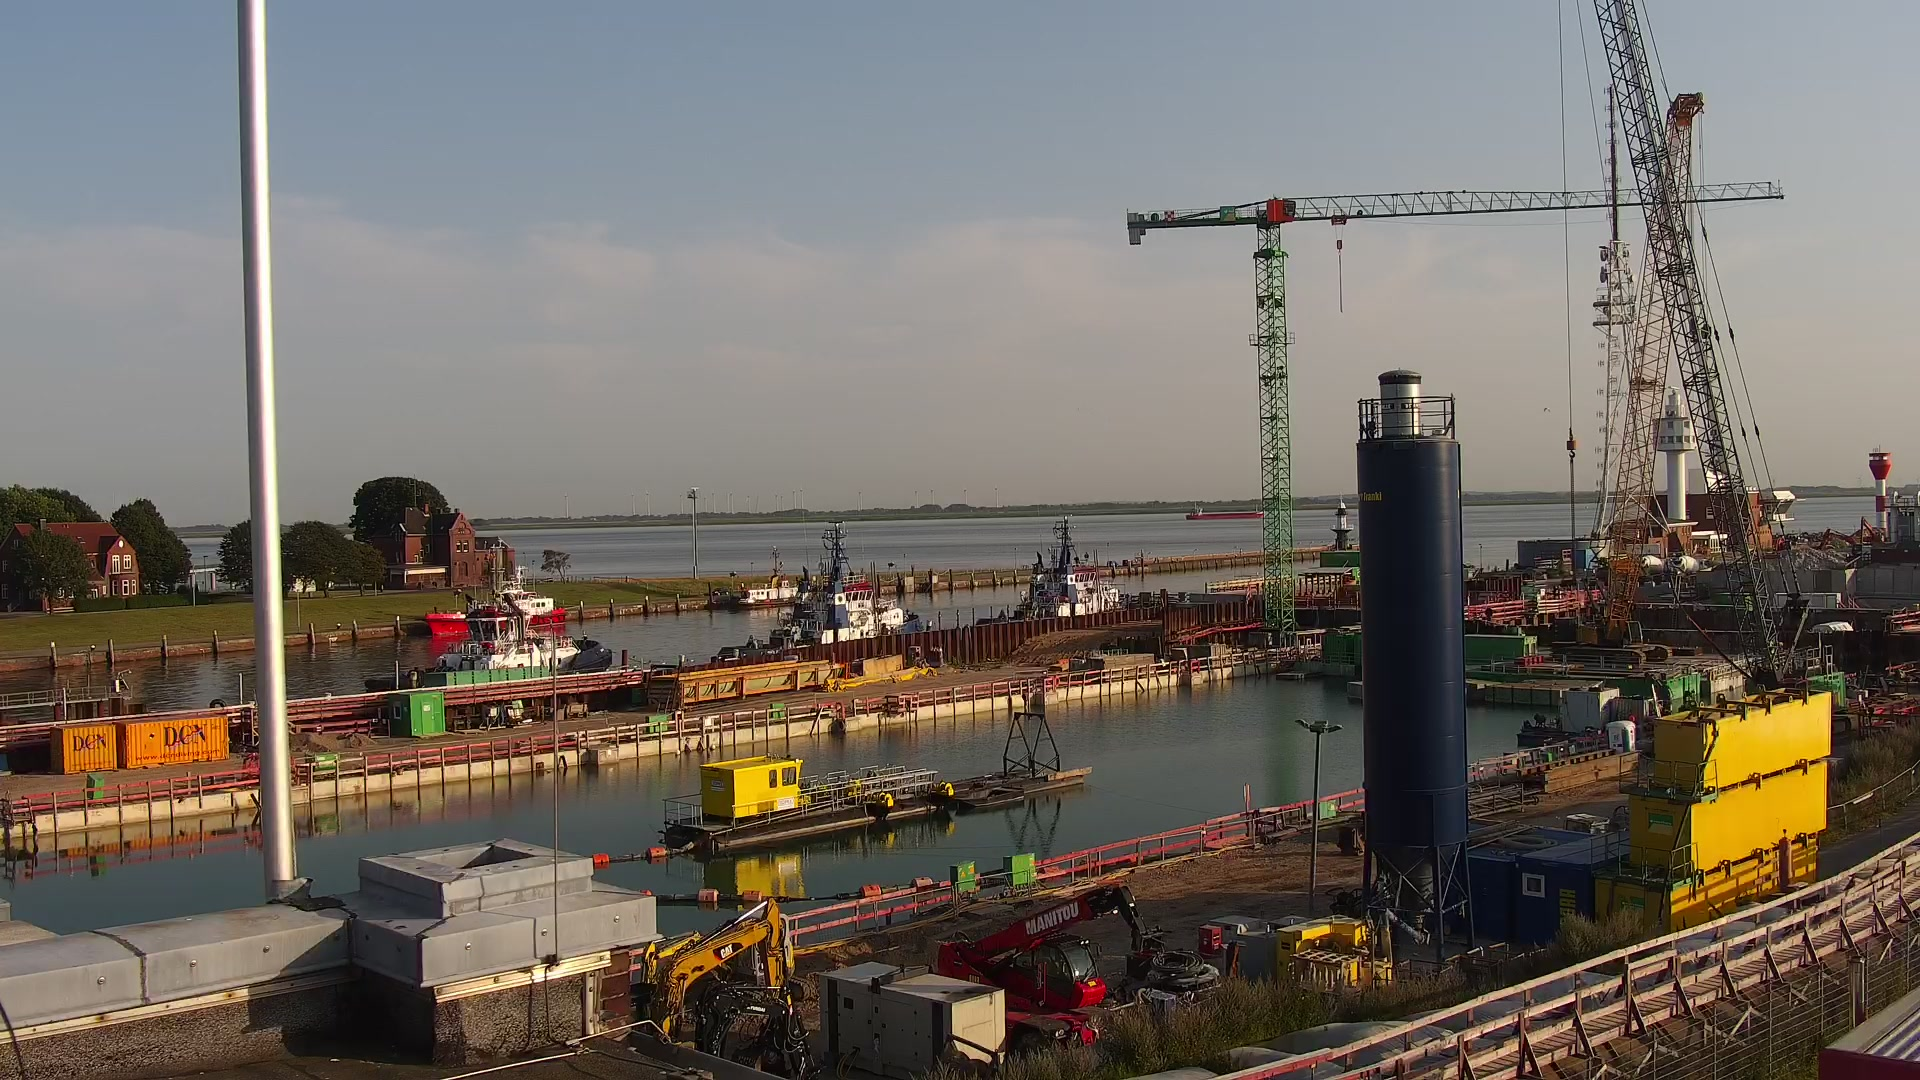sea: (363, 538, 615, 694), (709, 520, 926, 659), (976, 513, 1131, 624), (423, 564, 567, 636), (727, 545, 796, 608), (1185, 501, 1265, 520)
